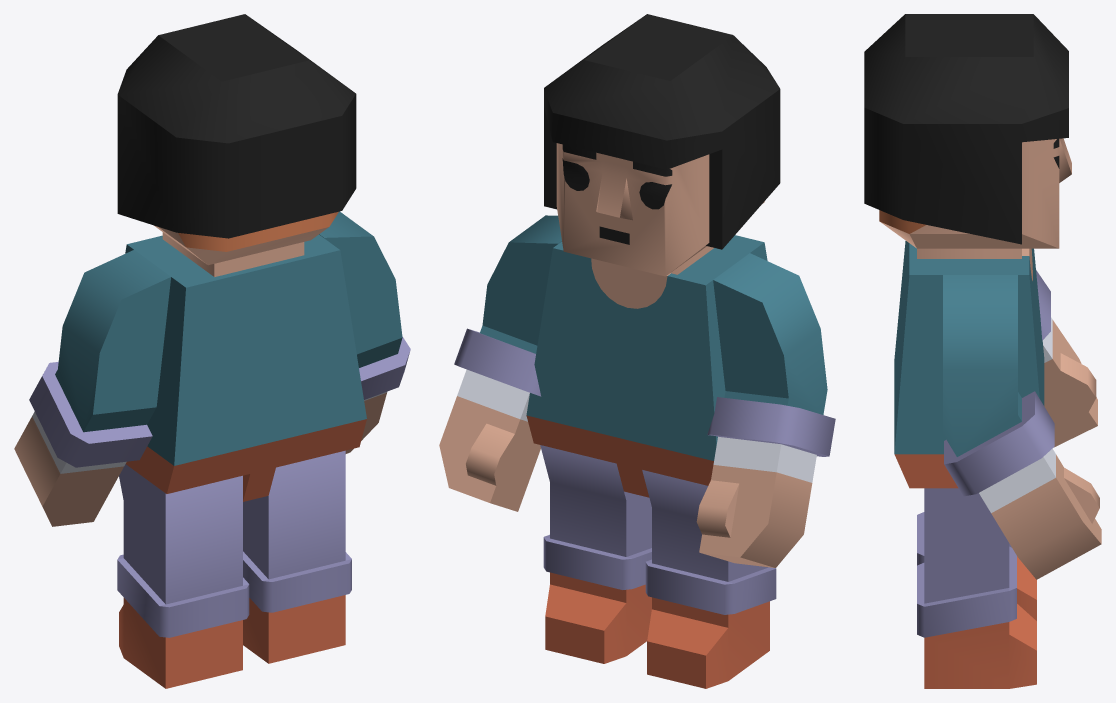
Rendered from mom.glb.
3 renders of one model, left to right at view 1: azimuth 30°, elevation 25°; view 2: azimuth 150°, elevation 25°; view 3: azimuth 270°, elevation 25°, orthographic.
Parts seen in each view (by area): view 1: mergedBlocks(Clone); view 2: mergedBlocks(Clone); view 3: mergedBlocks(Clone).
Boxes of the visible parts, x1,y1,x2,y2 form: mergedBlocks(Clone): (14, 14, 410, 688); mergedBlocks(Clone): (439, 14, 835, 688); mergedBlocks(Clone): (864, 14, 1101, 688).
Bounding box in the file's own units: 0.5428 × 0.8964 × 0.3162.
1 material, 1 textured.
